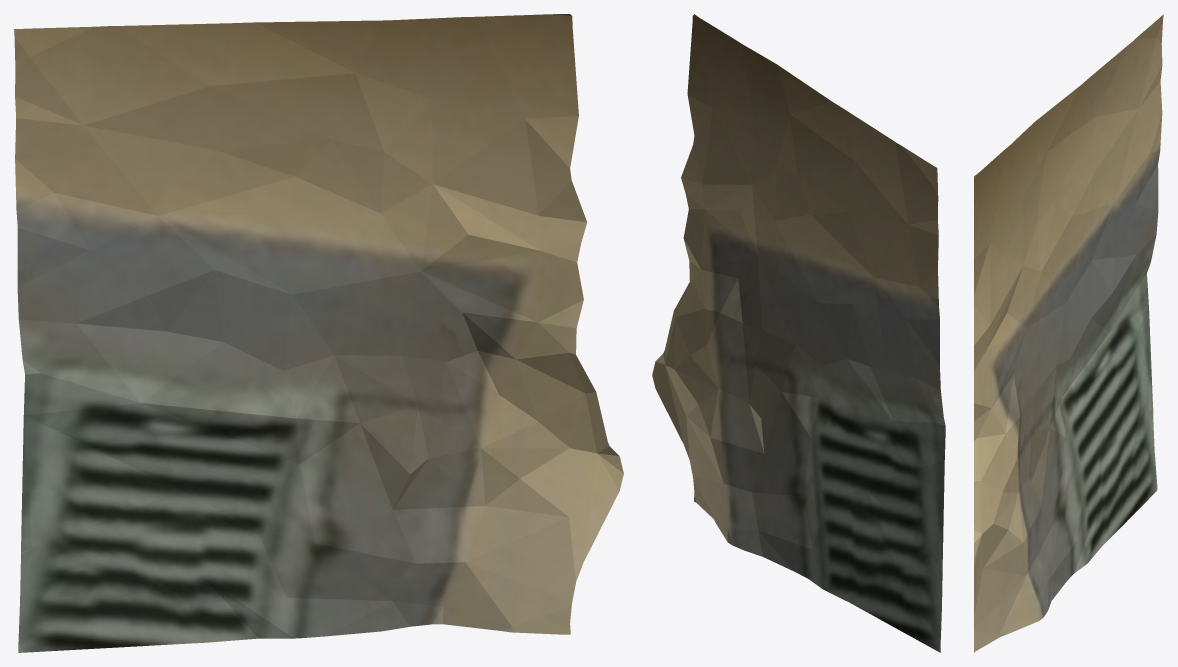
3 views of the same model, side by side, from view 1: azimuth 30°, elevation 25°; view 2: azimuth 150°, elevation 25°; view 3: azimuth 270°, elevation 25° (orthographic). The views are drawn at different scales.
Bounding box in the file's own units: 0.6867 × 0.8374 × 0.302.
Materials: 2 (2 with a texture image).
